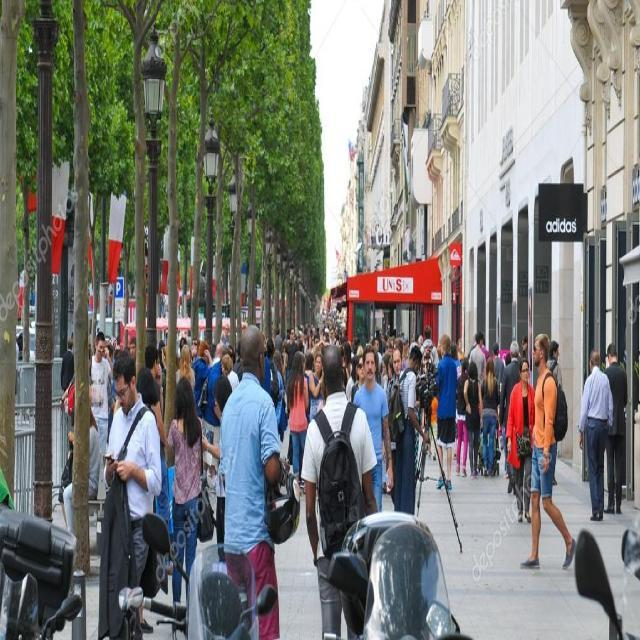Backpacks: (318, 432, 366, 558), (388, 380, 407, 442), (552, 382, 568, 443)
